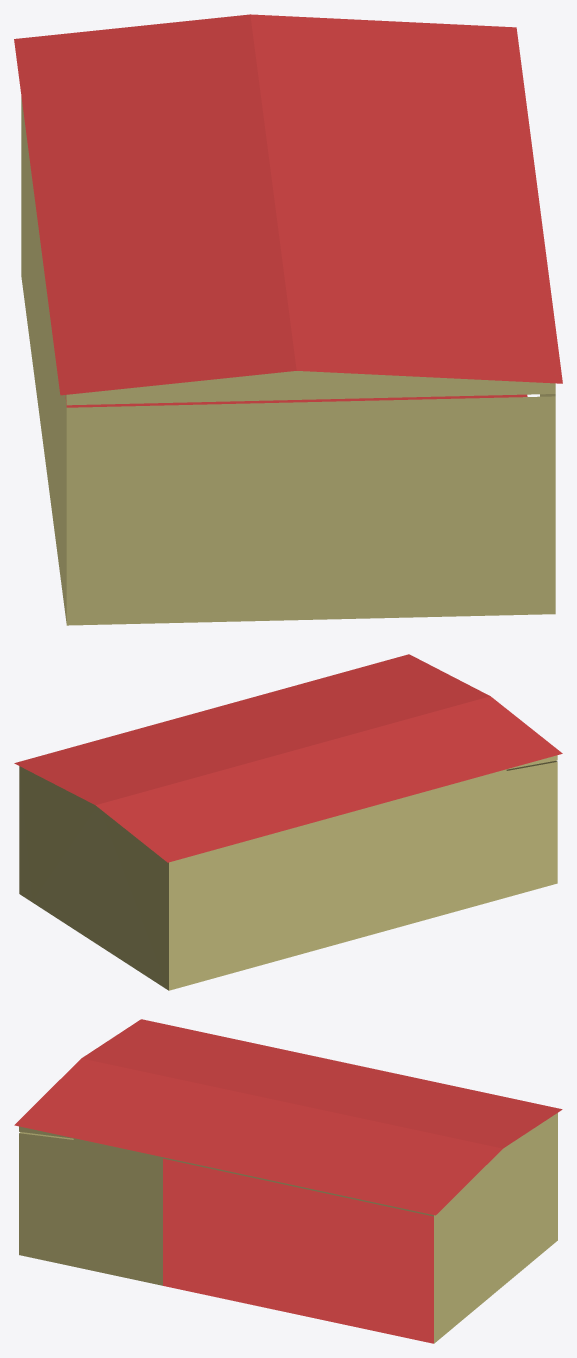
3 renders of one model, top to bottom at view 1: azimuth 30°, elevation 25°; view 2: azimuth 150°, elevation 25°; view 3: azimuth 270°, elevation 25°, orthographic. The views are drawn at different scales.
Bounding box in the file's own units: 30.48 × 36 × 10.21.
